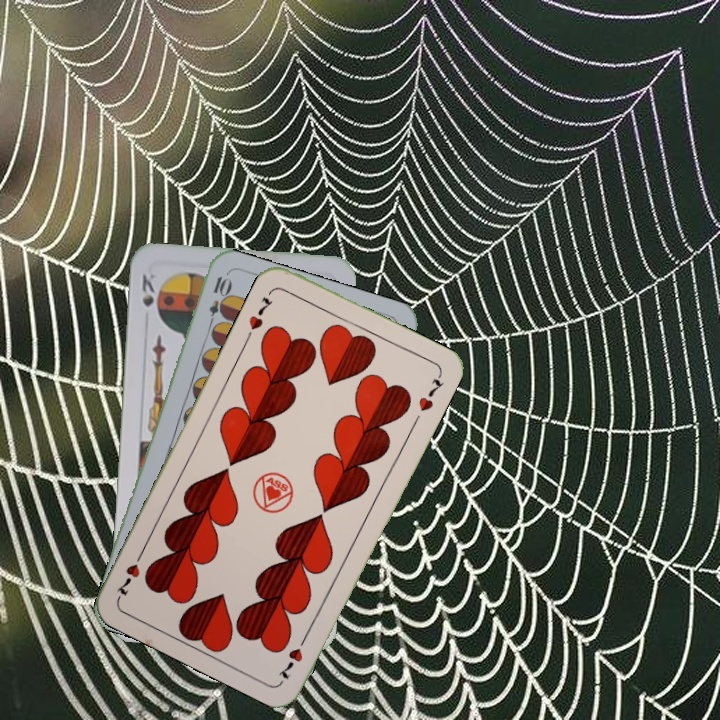E10: (204, 272, 231, 331)
H7: (274, 629, 311, 682), (242, 293, 276, 342)
SK: (138, 270, 158, 309)
